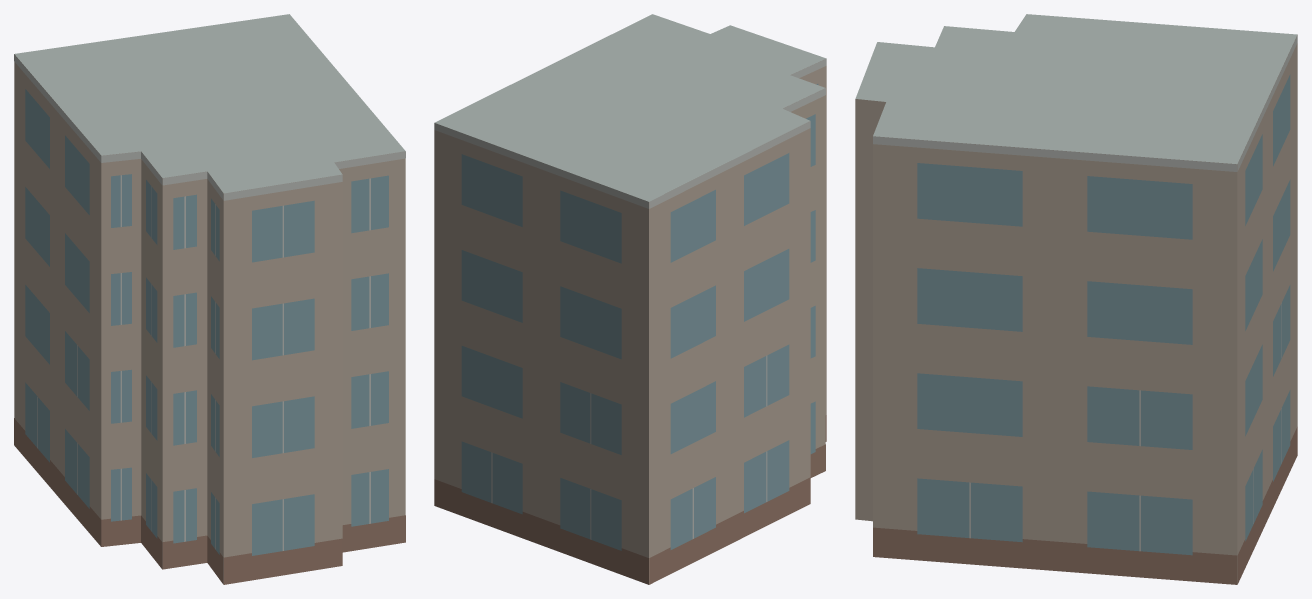
Rendered from survey-upis-32700937.glb.
3 renders of one model, left to right at view 1: azimuth 30°, elevation 25°; view 2: azimuth 150°, elevation 25°; view 3: azimuth 270°, elevation 25°, orthographic. The views are drawn at different scales.
Visible parts, largest first — view 1: survey-upis-32700937.tmp; view 2: survey-upis-32700937.tmp; view 3: survey-upis-32700937.tmp.
Part boxes in pixels (x1=…): survey-upis-32700937.tmp: x1=14, y1=14, x2=405, y2=584; survey-upis-32700937.tmp: x1=434, y1=14, x2=826, y2=584; survey-upis-32700937.tmp: x1=855, y1=14, x2=1297, y2=584.
Size of the model in its own units: 9.96 by 12.99 by 12.39.
